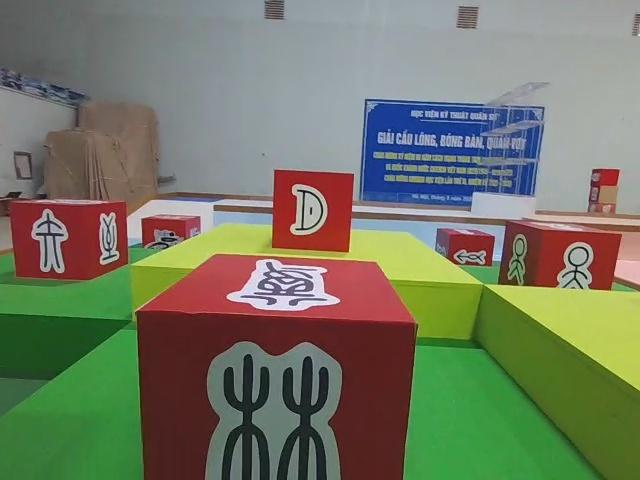R1: (142, 213, 202, 255)
R2 Fake: (136, 253, 417, 480), (10, 199, 129, 282)
R2 Real: (497, 219, 621, 300), (271, 167, 356, 255), (435, 226, 495, 273)
